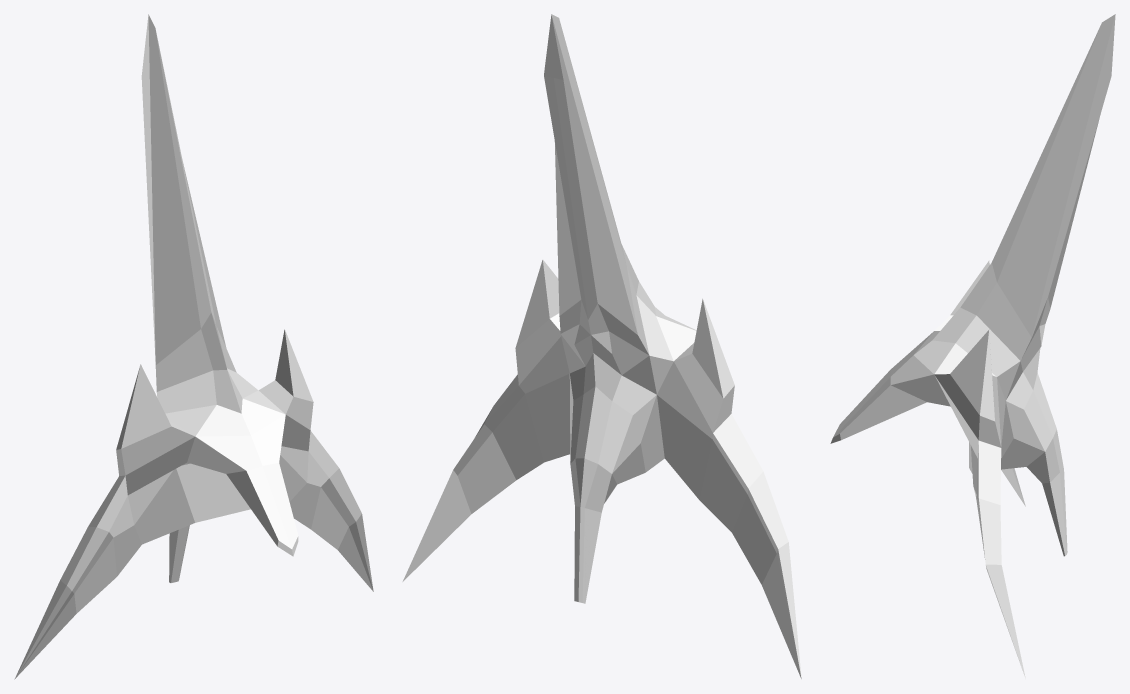
File: head_40.fbx
The picture shows the model from 3 angles, left to right: view 1: azimuth 30°, elevation 25°; view 2: azimuth 150°, elevation 25°; view 3: azimuth 270°, elevation 25°; orthographic projection. The views are drawn at different scales.
Visible parts, largest first — view 1: Cube.146; view 2: Cube.146; view 3: Cube.146.
Part boxes in pixels (x1,y1,x2,y2): Cube.146: (14, 14, 373, 679); Cube.146: (402, 14, 801, 678); Cube.146: (830, 14, 1115, 678).
Bounding box in the file's own units: 113 × 177 × 79.07.
